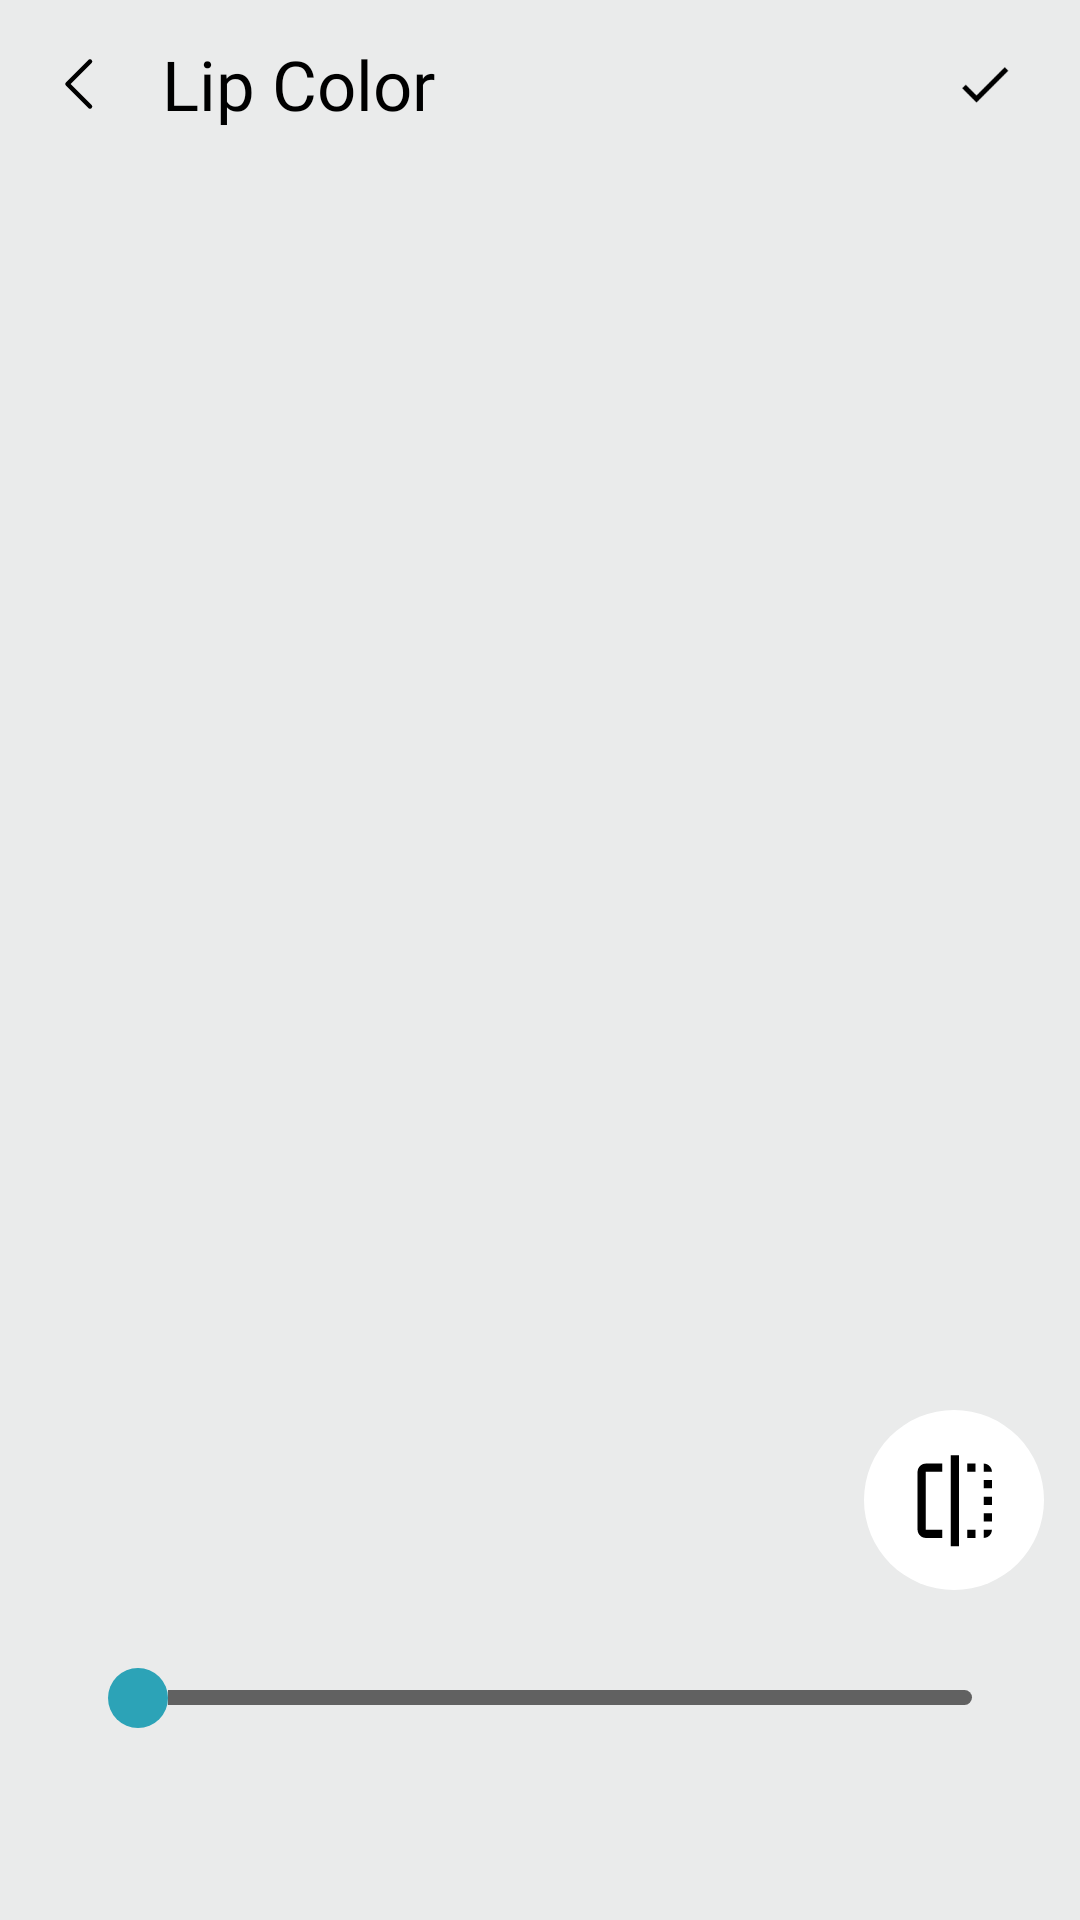

Point at icon controls on the screen. Image size 1080w x 1920h, points as [x,y].
afterbefore: [954,1500]
back: [79,84]
done: [985,85]
